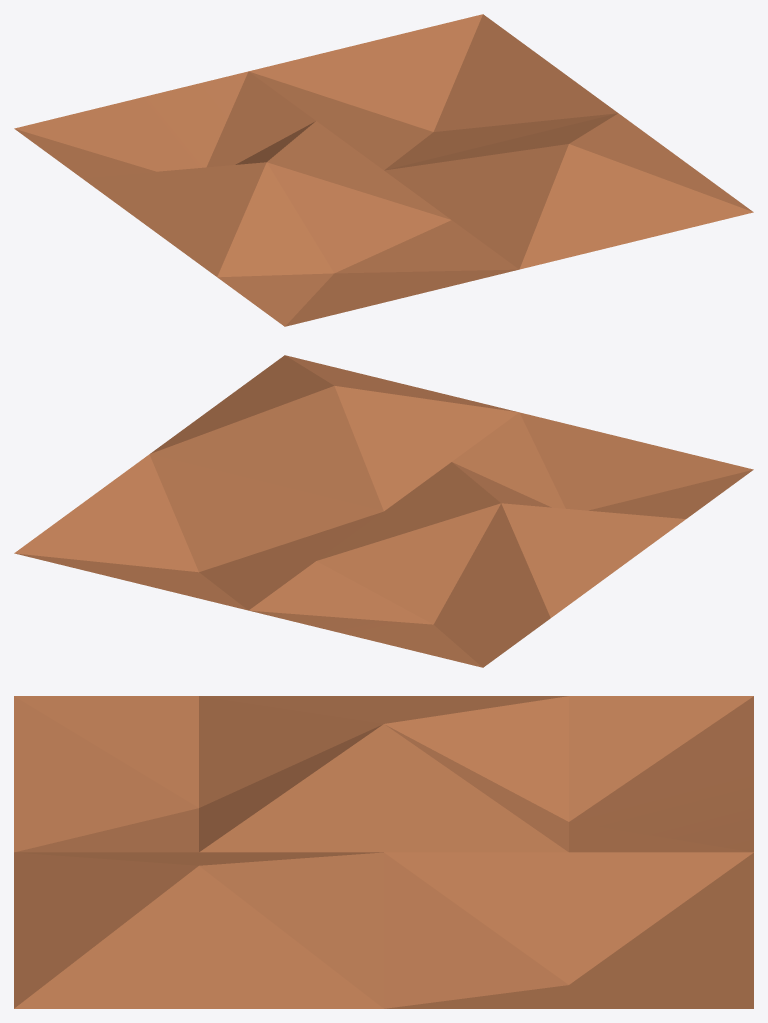
The model's file is groundTileRough.fbx.
3 renders of one model, top to bottom at view 1: azimuth 30°, elevation 25°; view 2: azimuth 150°, elevation 25°; view 3: azimuth 270°, elevation 25°, orthographic. The views are drawn at different scales.
Visible parts, largest first — view 1: groundTileRough; view 2: groundTileRough; view 3: groundTileRough.
Part boxes in pixels (x1,y1,x2,y2): groundTileRough: (14, 14, 753, 326); groundTileRough: (14, 355, 753, 667); groundTileRough: (14, 696, 753, 1008).
Size of the model in its own units: 10 by 1.78 by 10.
